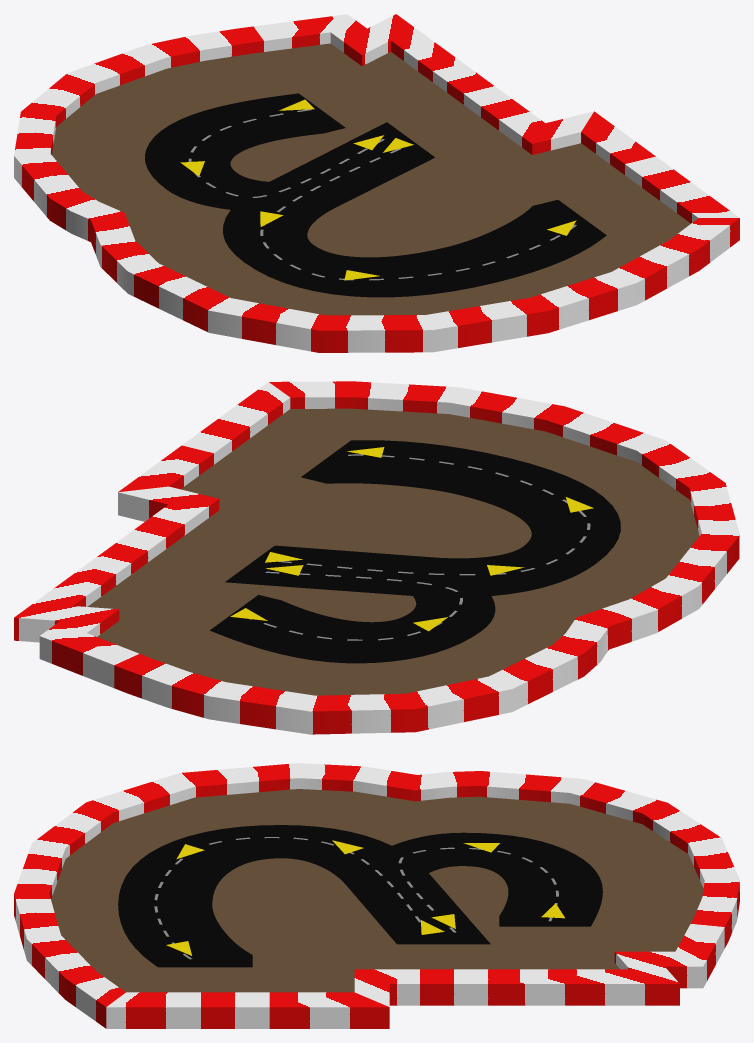
File: ain.FBX
3 renders of one model, top to bottom at view 1: azimuth 30°, elevation 25°; view 2: azimuth 150°, elevation 25°; view 3: azimuth 270°, elevation 25°, orthographic. The views are drawn at different scales.
Parts seen in each view (by area): view 1: ain_floor, ain_coll, ain, Line1; view 2: ain_floor, ain_coll, ain, Line1; view 3: ain_floor, ain_coll, ain, Line1.
Boxes of the visible parts, x1,y1,x2,y2 form: ain_floor: (52, 43, 690, 315); ain_coll: (14, 14, 739, 352); ain: (145, 93, 606, 297); Line1: (260, 148, 576, 280); ain_floor: (88, 408, 699, 695); ain_coll: (14, 381, 739, 734); ain: (210, 440, 620, 663); Line1: (278, 454, 590, 575); ain_floor: (51, 789, 703, 992); ain_coll: (14, 763, 739, 1028); ain: (118, 825, 602, 967); Line1: (154, 837, 420, 959).
Size of the model in its own units: 791 by 32.79 by 995.
